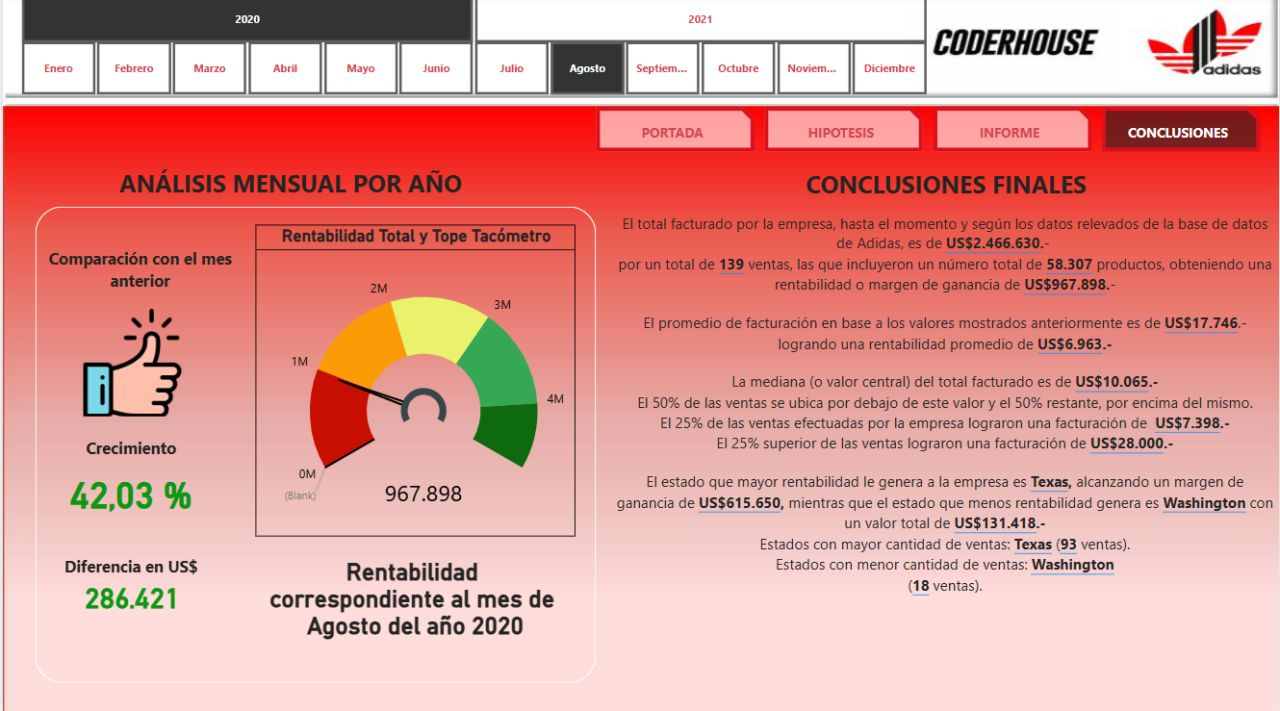

The page's visual inventory and layout, read from the dashboard file:
{"tool":"powerbi","page":{"name":"CONCLUSIONES","canvas":[1280,720],"ordinal":4},"visuals":[{"type":"pageNavigator","box":[594.8,111,669.6,45.8],"z":0},{"type":"textbox","box":[737.1,167.7,417.4,44.6],"z":1000},{"type":"textbox","box":[610,212.5,668.8,502.5],"z":2000},{"type":"slicer","fields":{"Values":["CALENDARIO.Mes"]},"box":[0,46.2,945,52.5],"z":3000},{"type":"slicer","fields":{"Values":["CALENDARIO.Año"]},"box":[0,0,945,46.2],"z":4000},{"type":"textbox","box":[79.6,166.5,417.4,44.6],"z":5000},{"type":"eaTachometer6616D82ED23A4C048E1D3CD4604742ED","fields":{"Y":["MEDIDAS.Rentabilidad Total"],"EndValue":["MEDIDAS.Tope Tacómetro"]},"box":[253.4,229.2,320.9,312.5],"z":6000},{"type":"card","fields":{"Values":["MEDIDAS.Narrativa Tacómetro"]},"box":[253.4,547.7,320.9,111],"z":7000},{"type":"textbox","box":[32.6,247.3,209.9,59.1],"z":8000},{"type":"textbox","box":[20.5,436.7,216,35],"z":9000},{"type":"textbox","box":[0,556.2,257,59.1],"z":10000},{"type":"card","fields":{"Values":["MEDIDAS.Tasa mensual"]},"box":[31.4,471.7,194.2,51.9],"z":11000},{"type":"card","fields":{"Values":["MEDIDAS.Dif.Mensual"]},"box":[32.6,576.7,194.2,51.9],"z":12000},{"type":"cardVisual","fields":{"Data":["MEDIDAS.Pulgares"]},"box":[54.3,296.8,155.6,130.3],"z":13000},{"type":"shape","box":[32.6,211.1,562.2,477.8],"z":14000}]}

Visuals, with their boxes in screenshot pixels (x1, y1, x2, y2), scaled from the page's 1280x720 canvas onto the 1280x711 screenshot:
pageNavigator: BBox(595, 110, 1264, 155)
textbox: BBox(737, 166, 1154, 210)
textbox: BBox(610, 210, 1279, 706)
slicer - CALENDARIO.Mes: BBox(0, 46, 945, 97)
slicer - CALENDARIO.Año: BBox(0, 0, 945, 46)
textbox: BBox(80, 164, 497, 208)
eaTachometer6616D82ED23A4C048E1D3CD4604742ED - MEDIDAS.Rentabilidad Total x MEDIDAS.Tope Tacómetro: BBox(253, 226, 574, 535)
card - MEDIDAS.Narrativa Tacómetro: BBox(253, 541, 574, 650)
textbox: BBox(33, 244, 242, 303)
textbox: BBox(20, 431, 236, 466)
textbox: BBox(0, 549, 257, 608)
card - MEDIDAS.Tasa mensual: BBox(31, 466, 226, 517)
card - MEDIDAS.Dif.Mensual: BBox(33, 569, 227, 621)
cardVisual - MEDIDAS.Pulgares: BBox(54, 293, 210, 422)
shape: BBox(33, 208, 595, 680)
